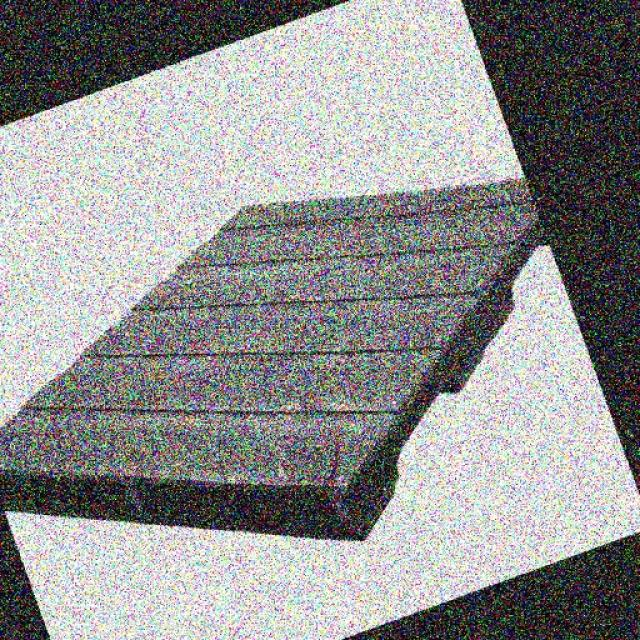non-igps: (0, 173, 554, 548)
